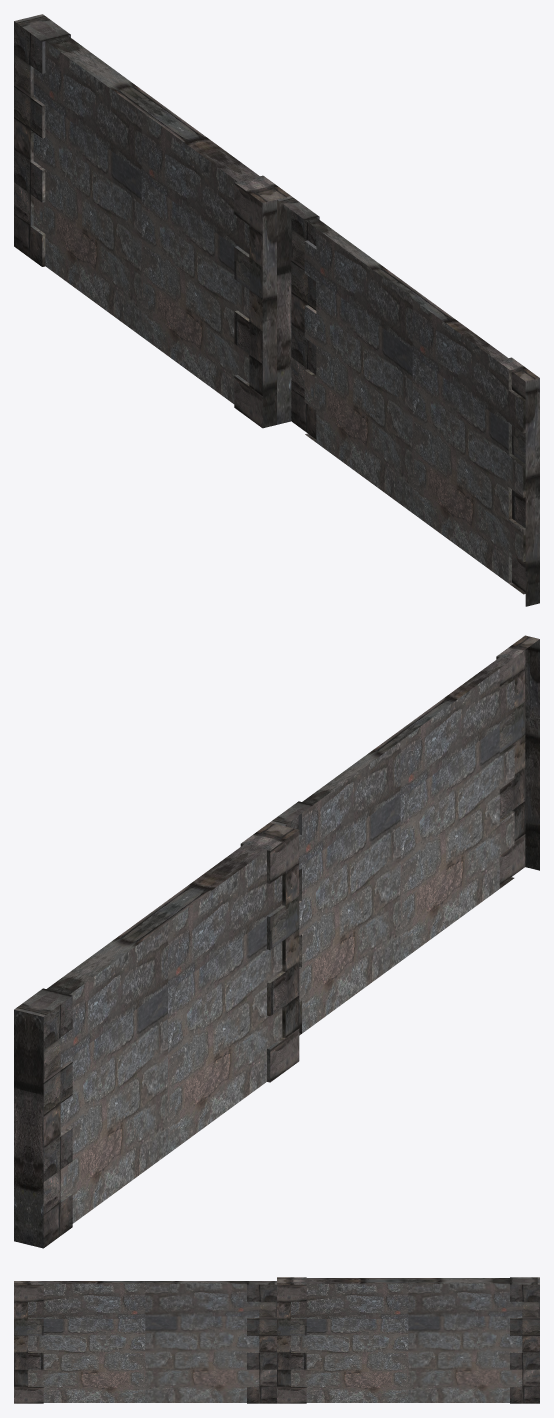
File: WallDouble.fbx
The picture shows the model from 3 angles, top to bottom: view 1: azimuth 30°, elevation 25°; view 2: azimuth 150°, elevation 25°; view 3: azimuth 270°, elevation 25°; orthographic projection. The views are drawn at different scales.
Parts seen in each view (by area): view 1: 2x2_Wall, 2x2_Wall.001; view 2: 2x2_Wall, 2x2_Wall.001; view 3: 2x2_Wall, 2x2_Wall.001.
Boxes of the visible parts, <box> form: 2x2_Wall: <box>14,14,290,428</box>; 2x2_Wall.001: <box>277,196,539,606</box>; 2x2_Wall: <box>14,822,299,1248</box>; 2x2_Wall.001: <box>270,635,539,1035</box>; 2x2_Wall: <box>277,1277,539,1403</box>; 2x2_Wall.001: <box>14,1281,276,1403</box>.
Bounding box in the file's own units: 40.12 × 300 × 1200.
